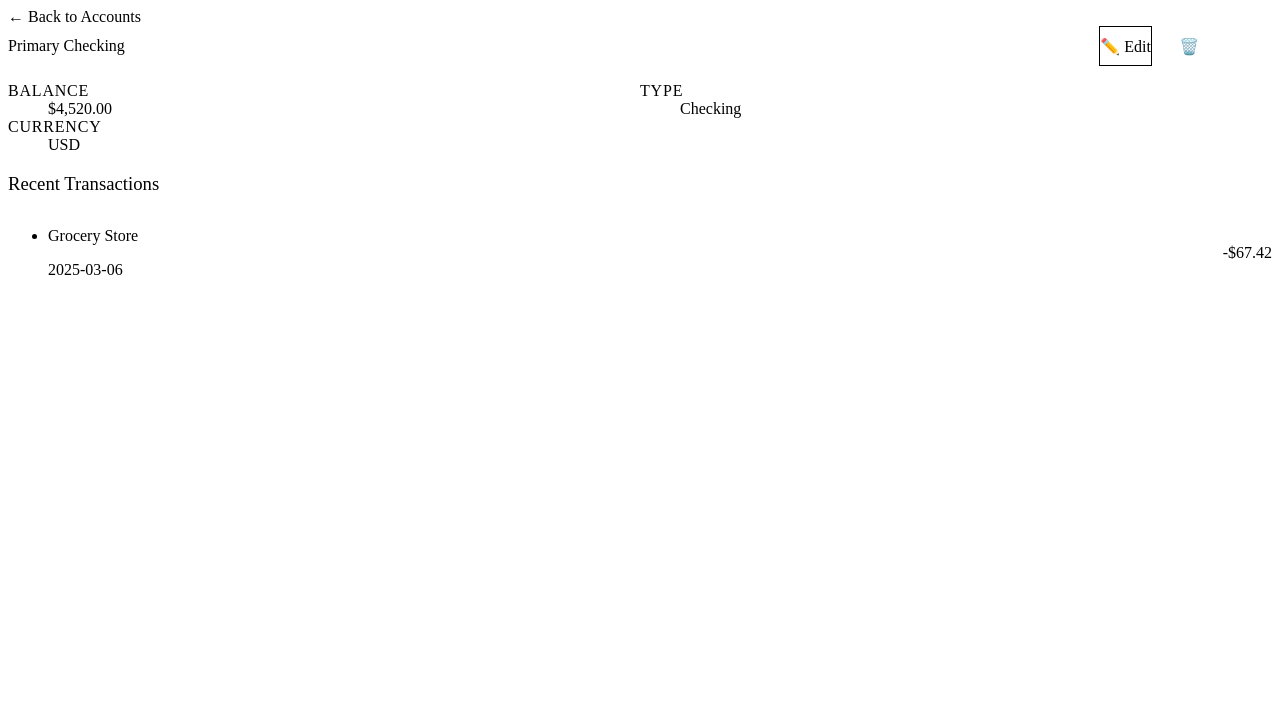
Test case: AccountDetailPage › closes confirm dialog when cancel is clicked
Click the button with aria-label "delete primary checking": [1212, 46] box [1152,26,1272,66]
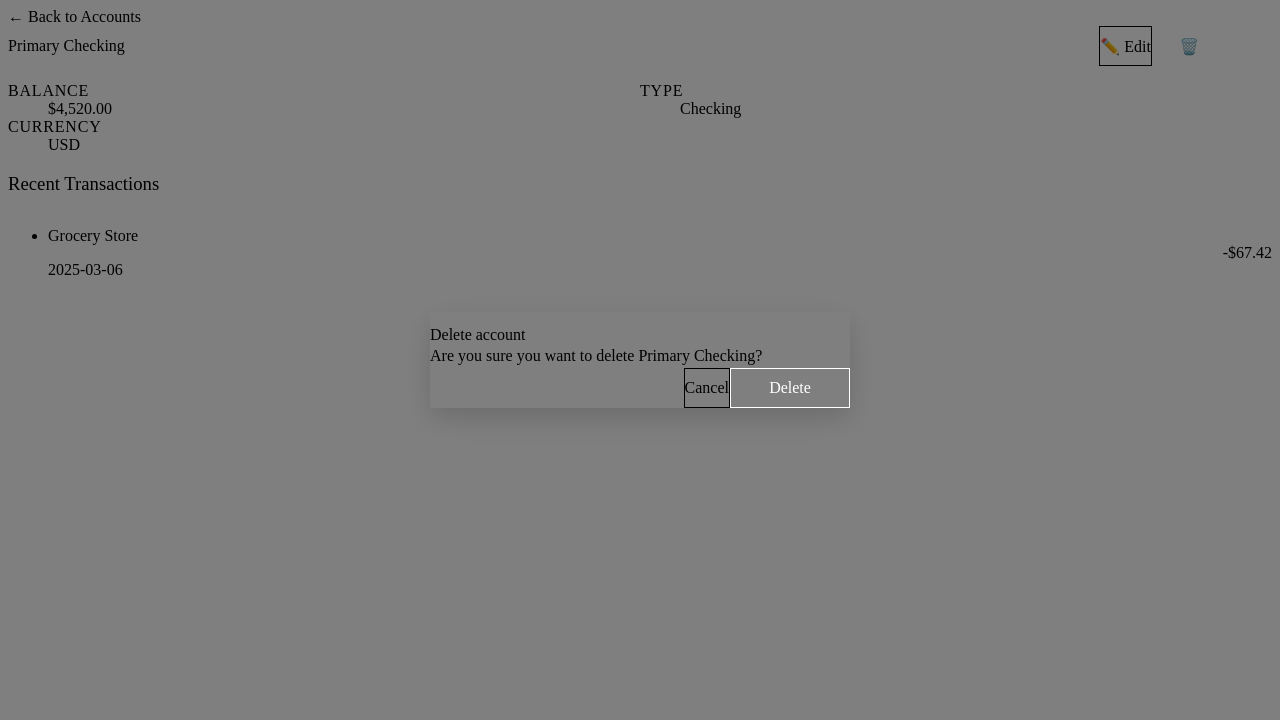
Expected: the dialog is shown, [430,312,850,408]
Click the button "Cancel": [707, 388] box [684,368,730,408]
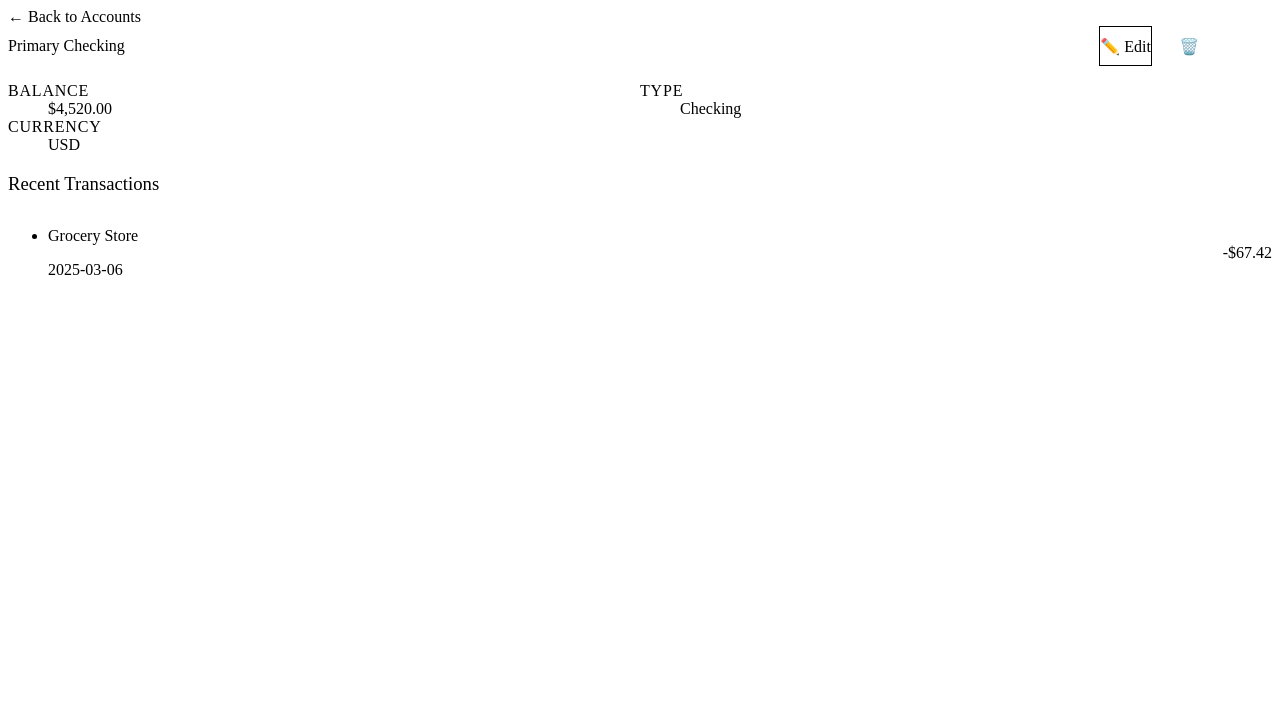
Expected: the dialog is gone
